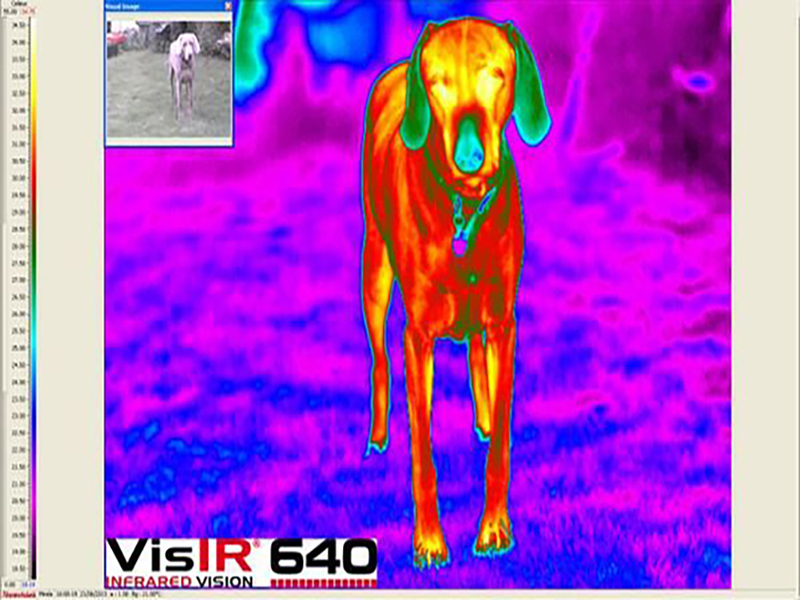cane da caccia: (353, 9, 539, 559)
